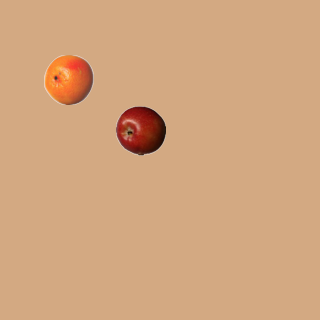Apple Braeburn: (115, 105, 165, 155)
Grapefruit Pink: (43, 54, 93, 104)
